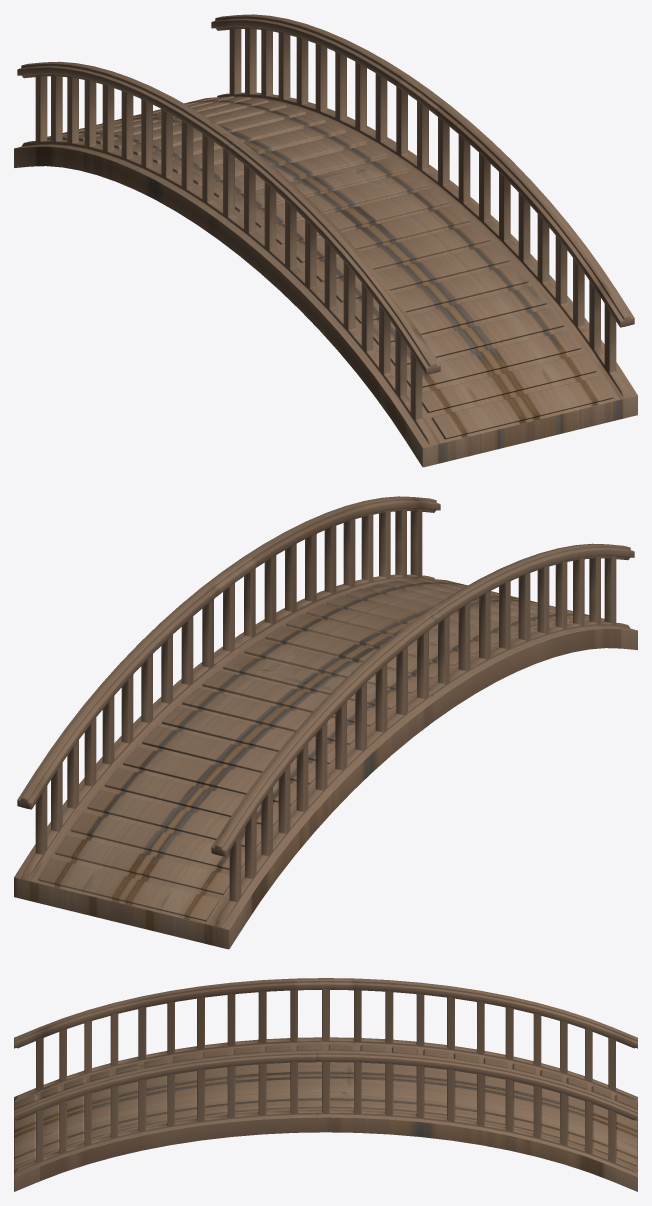
The model's file is puente.obj.
3 renders of one model, top to bottom at view 1: azimuth 30°, elevation 25°; view 2: azimuth 150°, elevation 25°; view 3: azimuth 270°, elevation 25°, orthographic. The views are drawn at different scales.
Visible parts, largest first — view 1: Cube.001; view 2: Cube.001; view 3: Cube.001.
Part boxes in pixels (bbox=[...]): Cube.001: bbox=[14, 14, 637, 467]; Cube.001: bbox=[14, 496, 637, 949]; Cube.001: bbox=[14, 978, 637, 1191].
Bounding box in the file's own units: 7.31 × 5.8 × 24.02.
1 material, 1 textured.
